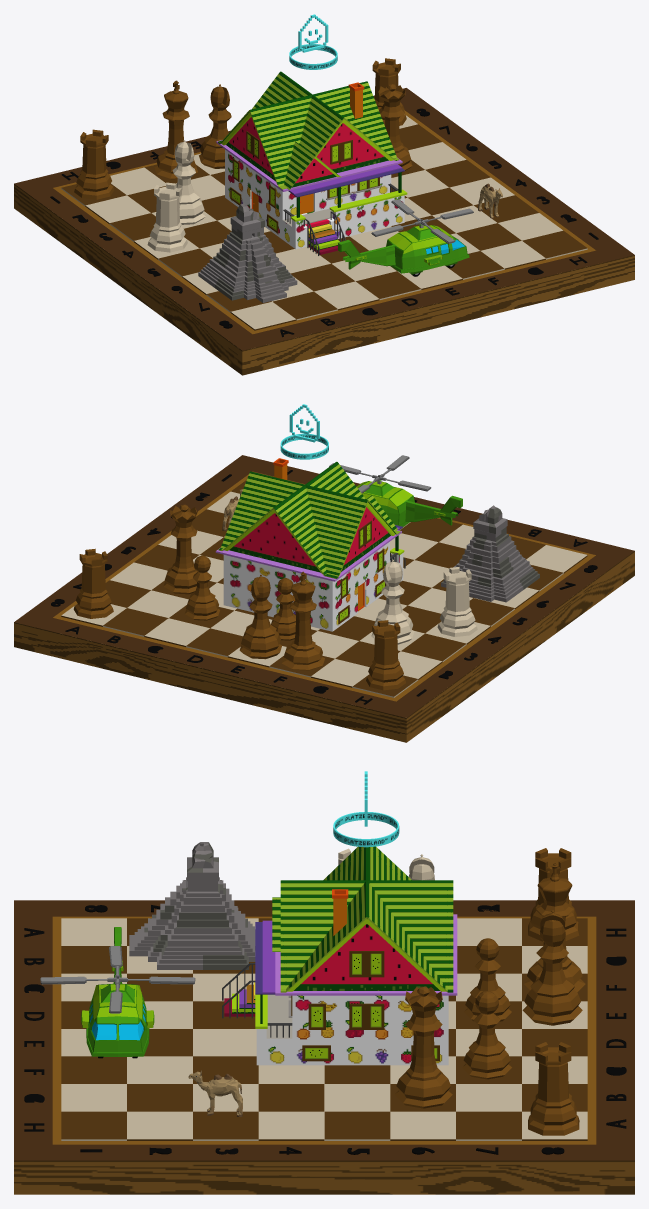
3 views of the same model, one above another, from view 1: azimuth 30°, elevation 25°; view 2: azimuth 150°, elevation 25°; view 3: azimuth 270°, elevation 25° (orthographic). The views are drawn at different scales.
Parts seen in each view (by area): view 1: Cube.002, Cube.1063, OBJRANDOM_GRAN_JAGUAR, VEHICLES_HELICOPTER, TYPE_PREMIUM, ANIMAL_CAMELLO; view 2: Cube.002, Cube.1063, OBJRANDOM_GRAN_JAGUAR, VEHICLES_HELICOPTER, TYPE_PREMIUM; view 3: Cube.002, Cube.1063, OBJRANDOM_GRAN_JAGUAR, VEHICLES_HELICOPTER, TYPE_PREMIUM, ANIMAL_CAMELLO.
Boxes of the visible parts, box(x1,y1,x2,y2) form: Cube.002: box(14, 58, 634, 375); Cube.1063: box(216, 71, 407, 255); OBJRANDOM_GRAN_JAGUAR: box(198, 203, 297, 302); VEHICLES_HELICOPTER: box(338, 199, 473, 276); TYPE_PREMIUM: box(289, 14, 337, 69); ANIMAL_CAMELLO: box(478, 183, 502, 218); Cube.002: box(14, 455, 634, 742); Cube.1063: box(215, 458, 405, 631); OBJRANDOM_GRAN_JAGUAR: box(441, 505, 539, 602); VEHICLES_HELICOPTER: box(329, 455, 462, 526); TYPE_PREMIUM: box(280, 404, 328, 459); Cube.002: box(14, 848, 634, 1194); Cube.1063: box(222, 846, 457, 1065); OBJRANDOM_GRAN_JAGUAR: box(129, 842, 255, 969); VEHICLES_HELICOPTER: box(40, 927, 195, 1058); TYPE_PREMIUM: box(333, 771, 399, 847); ANIMAL_CAMELLO: box(188, 1070, 242, 1116).
Bounding box in the file's own units: 3981 × 2128 × 4012.
Materials: 35 (6 with a texture image).
